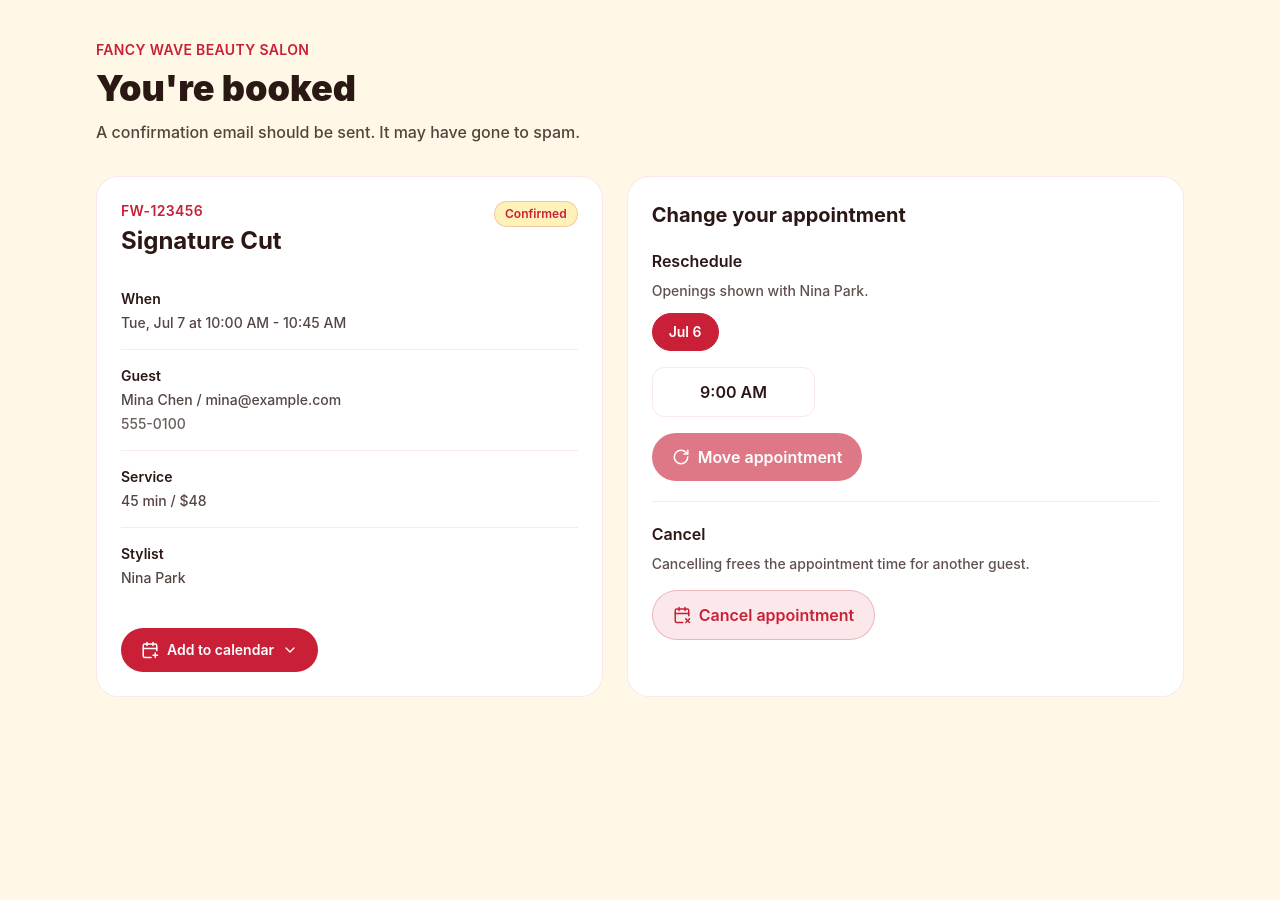
ManageBookingPage › shows confirmation after moving a managed booking
Click the button "9:00 AM" at (734, 392), box [652,367,816,417]
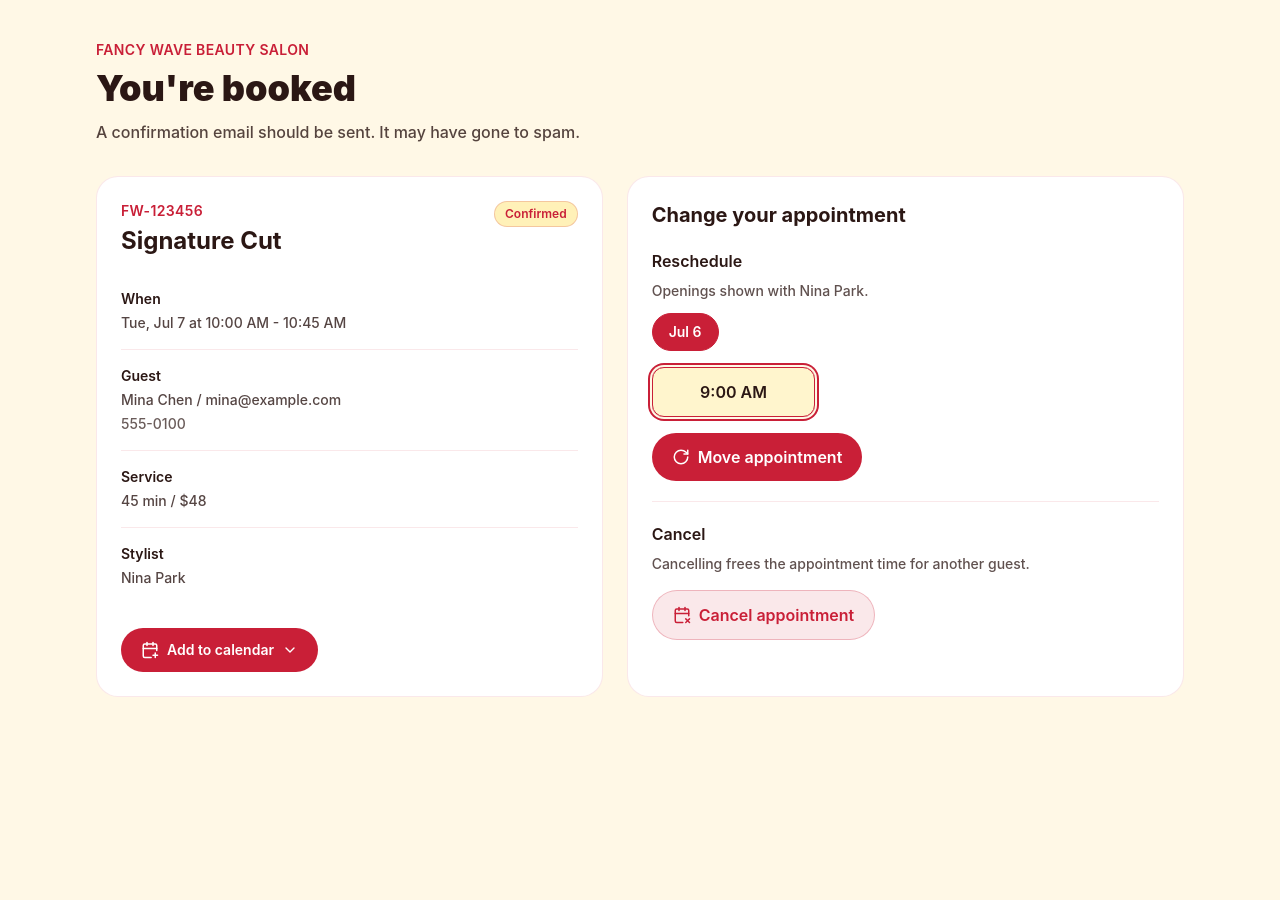
Click the button "Move appointment" at (757, 457), box [652,433,862,481]
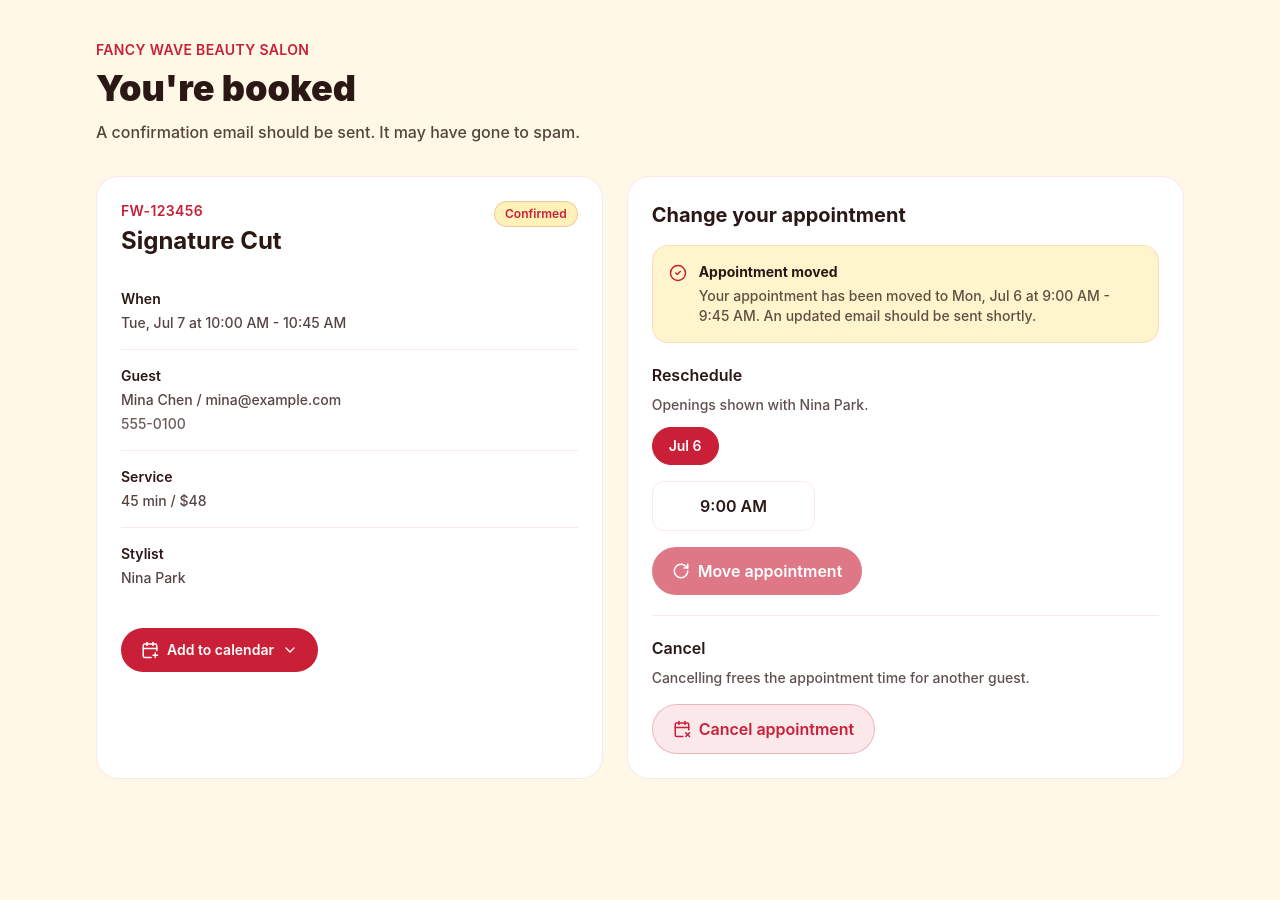
Check: the message shows "Appointment moved", box [699,263,838,280]
Check: the message shows "Mon, Jul 6 at 9:00 AM - 9:45 AM", box [699,287,1110,324]
